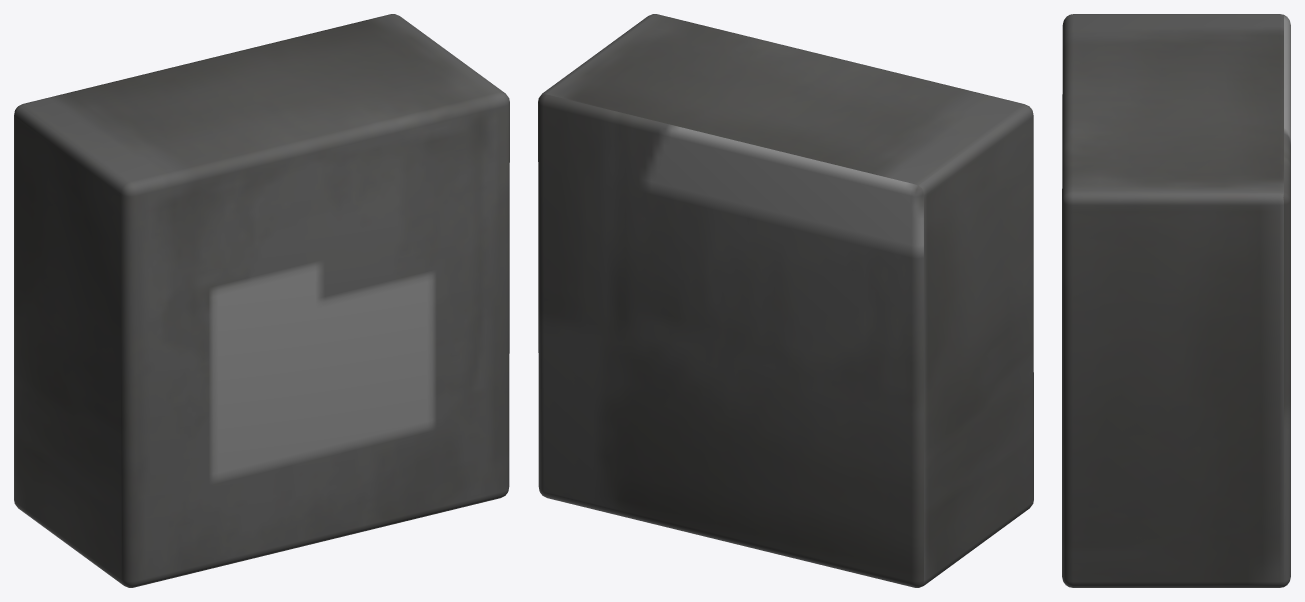
Rendered from Button_10.dae.
3 views of the same model, side by side, from view 1: azimuth 30°, elevation 25°; view 2: azimuth 150°, elevation 25°; view 3: azimuth 270°, elevation 25° (orthographic). The views are drawn at different scales.
Visible parts, largest first — view 1: Button_10_LOD0; view 2: Button_10_LOD0; view 3: Button_10_LOD0.
Part boxes in pixels (x1,y1,x2,y2): Button_10_LOD0: (14, 14, 509, 587); Button_10_LOD0: (538, 14, 1033, 587); Button_10_LOD0: (1062, 14, 1290, 587).
Bounding box in the file's own units: 11 × 11 × 5.75.
